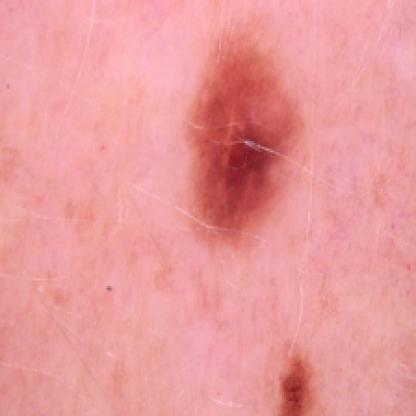benign: (186, 28, 301, 232)
